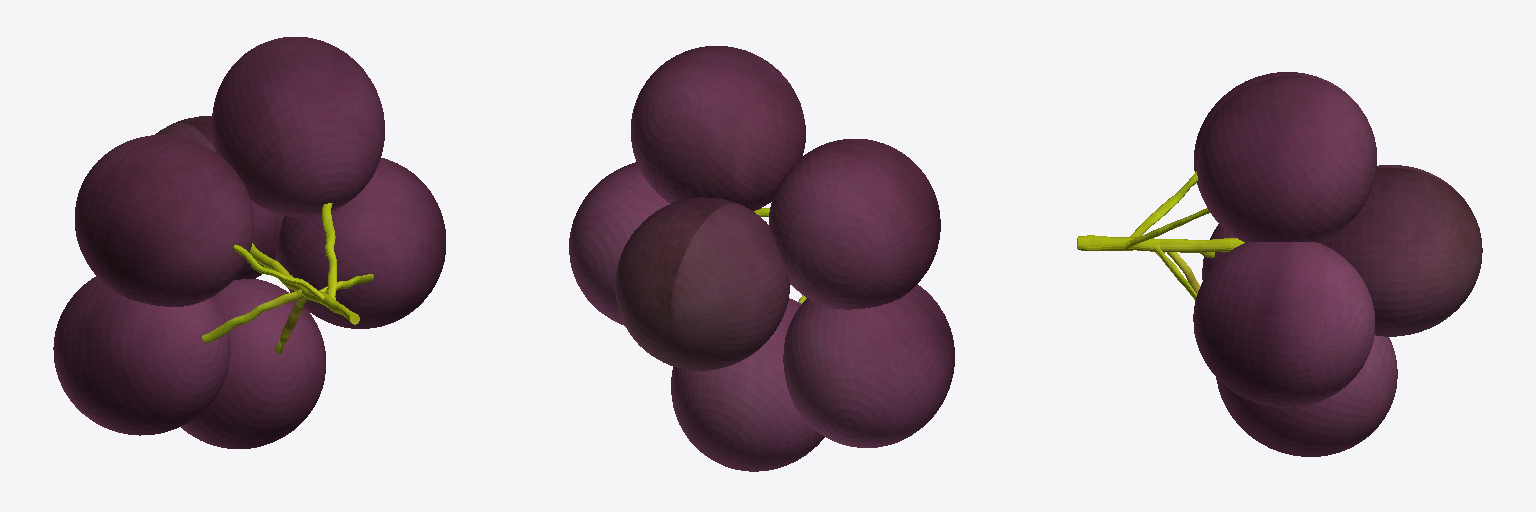
3 renders of one model, left to right at view 1: azimuth 30°, elevation 25°; view 2: azimuth 150°, elevation 25°; view 3: azimuth 270°, elevation 25°, orthographic.
Parts seen in each view (by area): view 1: Cylinder003; view 2: Cylinder003; view 3: Cylinder003.
Boxes of the visible parts, <box> form: Cylinder003: <box>53,37,445,448</box>; Cylinder003: <box>569,46,954,471</box>; Cylinder003: <box>1077,72,1482,456</box>.
Size of the model in its own units: 54.01 by 55.28 by 52.07.
1 materials, 1 textured.